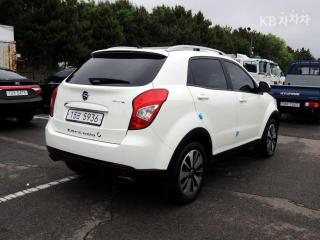1: (70, 111, 74, 118)
3: (91, 113, 95, 122)
5: (82, 112, 87, 120), (74, 110, 77, 119)
6: (94, 114, 99, 123)
9: (87, 112, 91, 121)
plate: (58, 105, 111, 130)
모: (77, 112, 82, 121)
